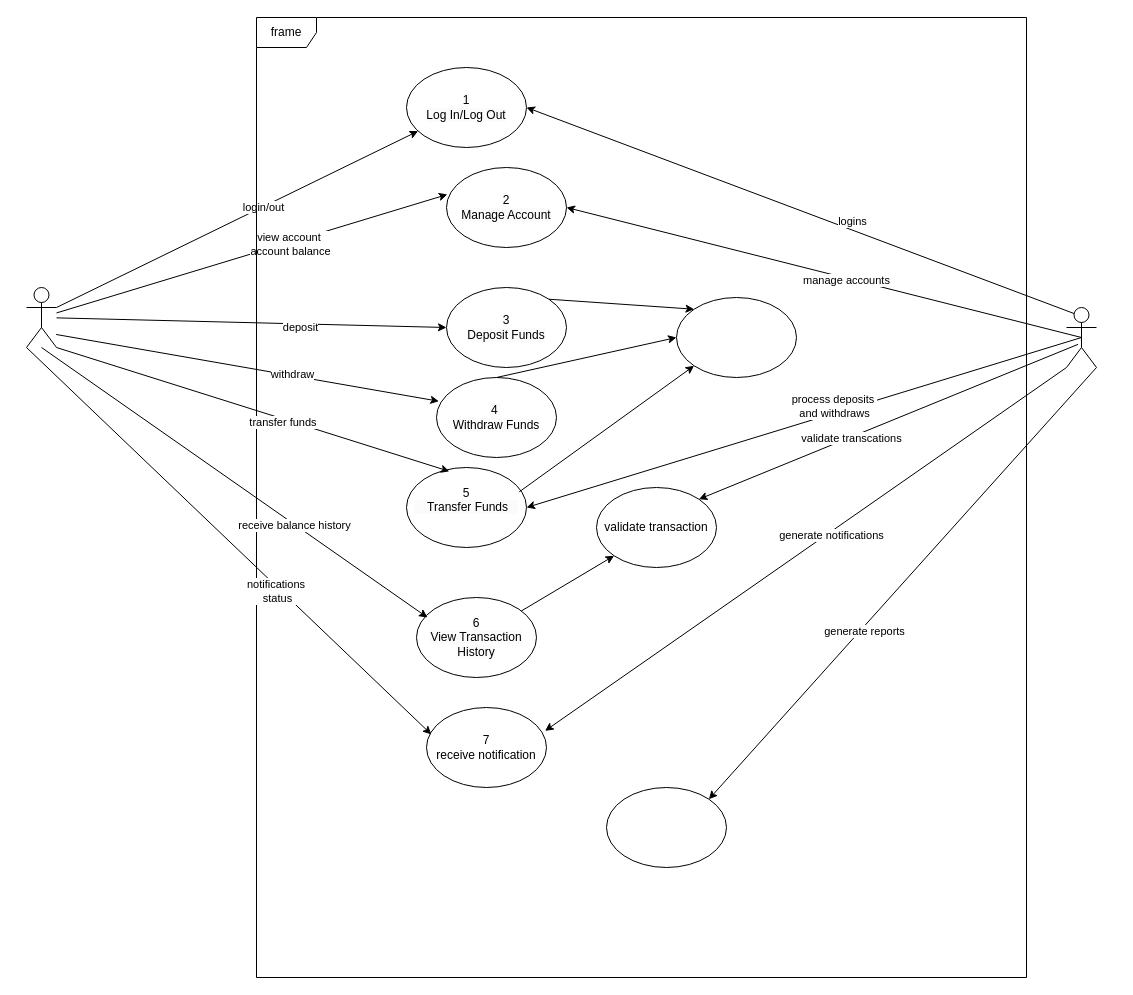
The diagram is 1133 pixels wide and 995 high, and some of its shapes have lost their labels. Here are the shapes that lost their labels. From the top down, the centre of each, then its label:
point (41, 317): customer
point (736, 337): update account balance
point (1081, 337): Bank system
point (666, 827): 8 generate reports
